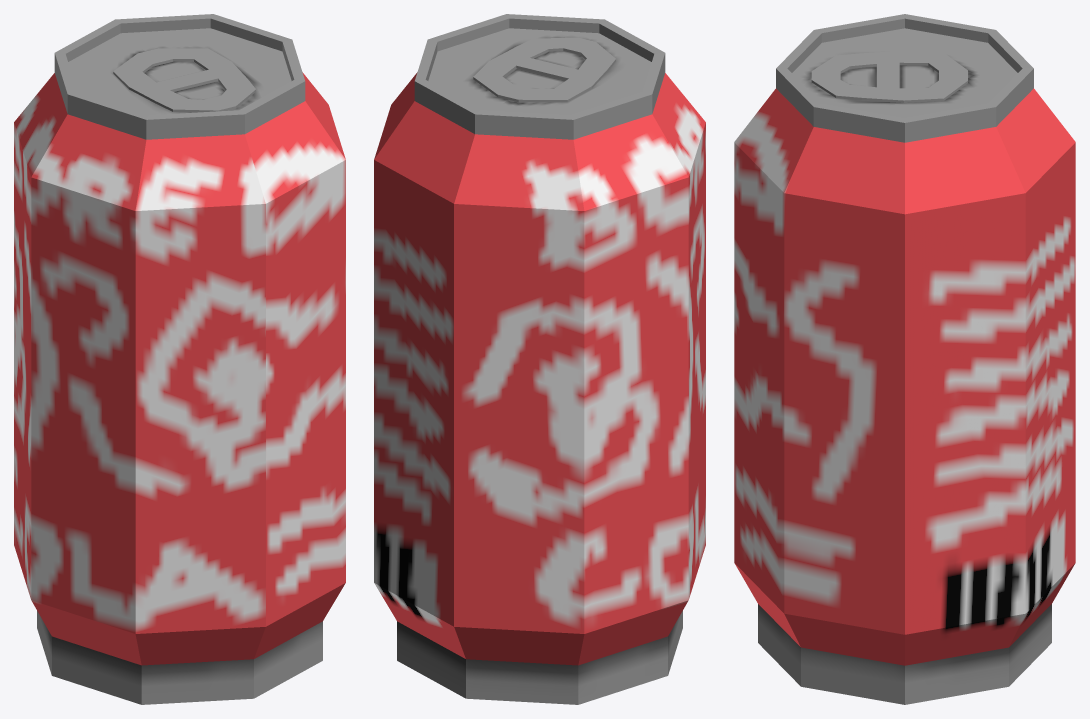
File: Can.fbx
3 renders of one model, left to right at view 1: azimuth 30°, elevation 25°; view 2: azimuth 150°, elevation 25°; view 3: azimuth 270°, elevation 25°, orthographic.
Parts seen in each view (by area): view 1: Cylinder; view 2: Cylinder; view 3: Cylinder.
Boxes of the visible parts, left/top/right/bottom form: Cylinder: left=14, top=14, right=345, bottom=704; Cylinder: left=374, top=14, right=705, bottom=704; Cylinder: left=734, top=14, right=1075, bottom=704.
Bounding box in the file's own units: 94.67 × 94.67 × 176.
Materials: 2 (2 with a texture image).
